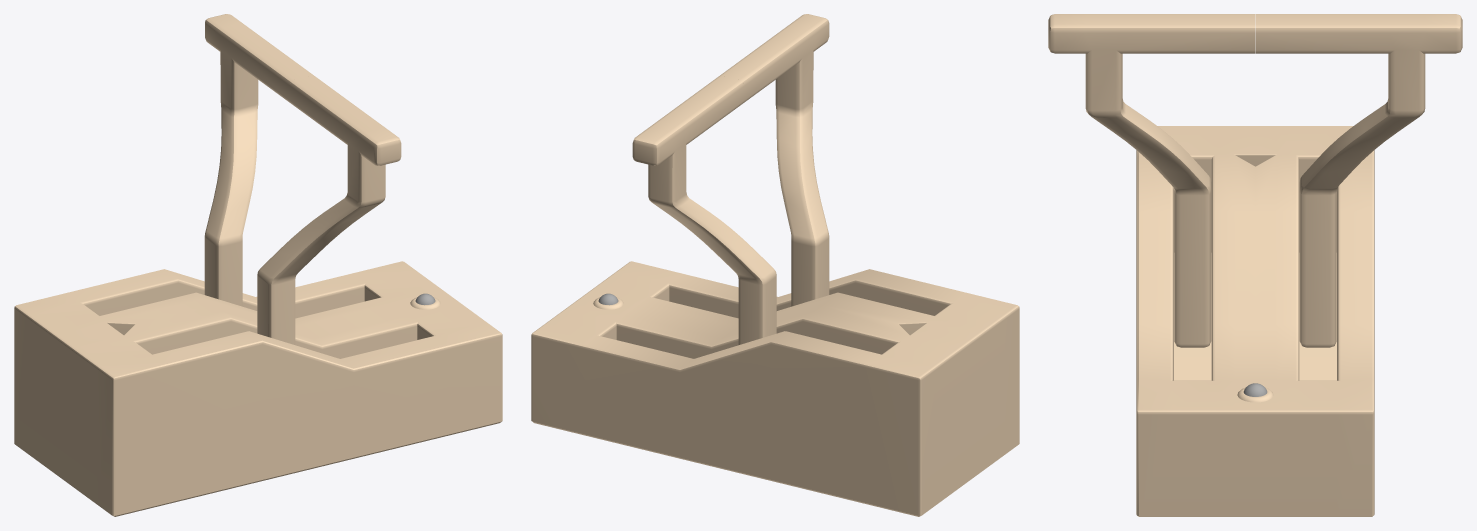
Rendered from LevierPrincipal.fbx.
3 renders of one model, left to right at view 1: azimuth 30°, elevation 25°; view 2: azimuth 150°, elevation 25°; view 3: azimuth 270°, elevation 25°, orthographic. The views are drawn at different scales.
Visible parts, largest first — view 1: LevierBase1, LevierPrincipal, LevierPrincipal1; view 2: LevierBase1, LevierPrincipal1, LevierPrincipal; view 3: LevierBase1, LevierPrincipal, LevierPrincipal1.
Part boxes in pixels (x1=…): LevierBase1: x1=14, y1=261, x2=502, y2=516; LevierPrincipal: x1=204, y1=14, x2=313, y2=306; LevierPrincipal1: x1=257, y1=75, x2=401, y2=344; LevierBase1: x1=531, y1=261, x2=1019, y2=516; LevierPrincipal1: x1=720, y1=14, x2=829, y2=306; LevierPrincipal: x1=632, y1=75, x2=776, y2=344; LevierBase1: x1=1136, y1=126, x2=1374, y2=516; LevierPrincipal: x1=1255, y1=14, x2=1462, y2=347; LevierPrincipal1: x1=1048, y1=14, x2=1255, y2=347.
Size of the model in its own units: 0.7937 by 0.6712 by 0.6123.
